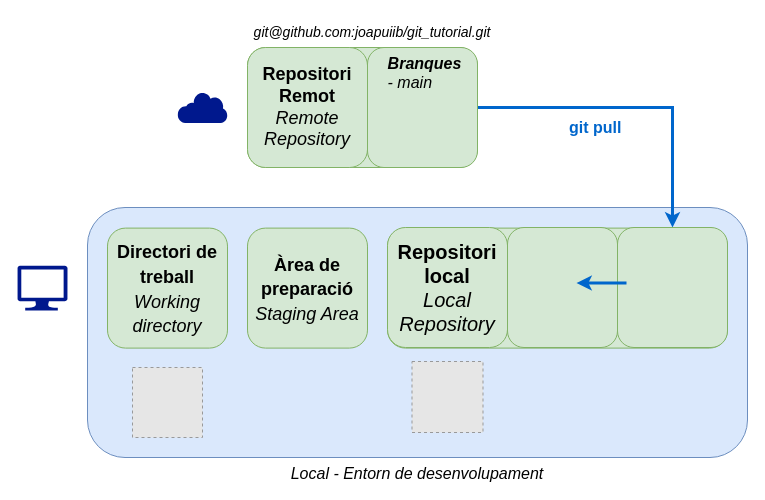
Some shapes in this 765 by 500 pixel diagram are drawn without their labels. Grey dashed boxes stand in for pictures. The centre of each missing label's shape, as x and y in pixels:
Branques locals - main: [562,287]
Branques remotes - origin/main: [672,287]
